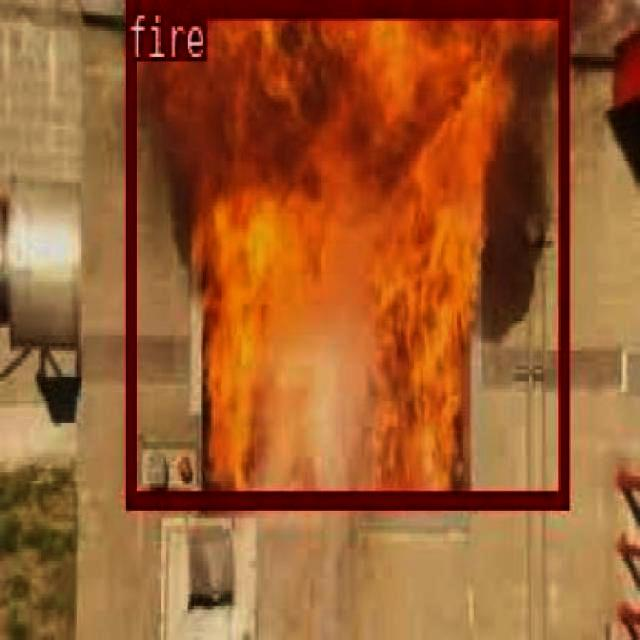fire: (125, 0, 566, 503)
